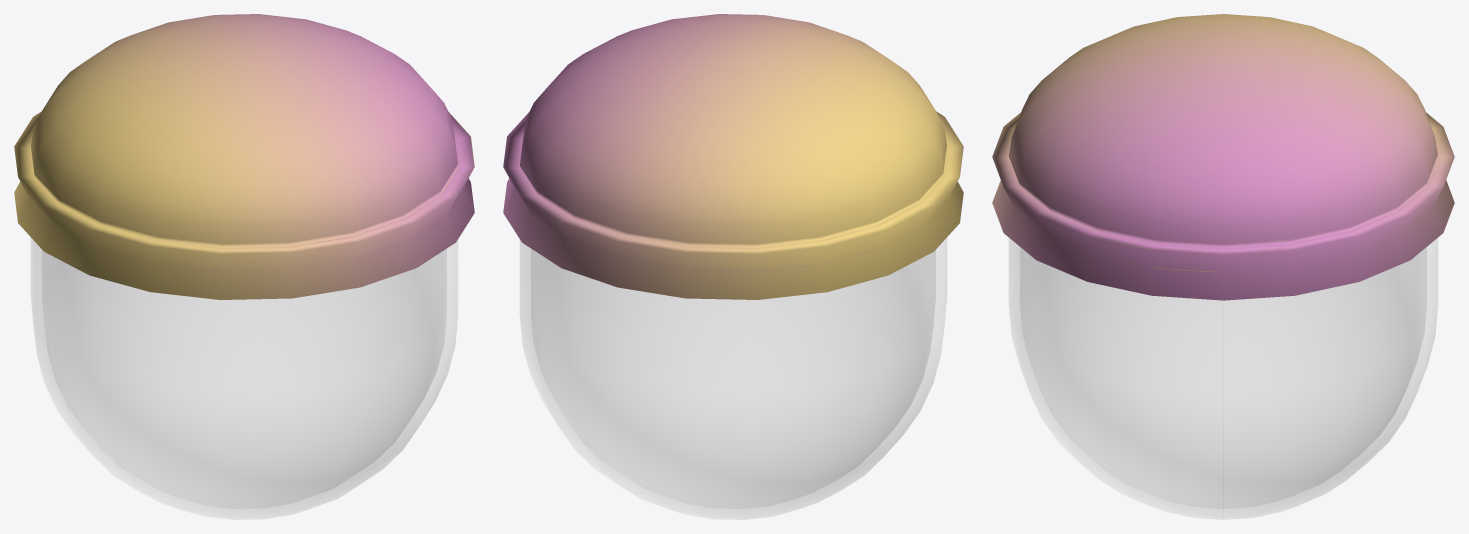
File: capsule_gradient.glb
The picture shows the model from 3 angles, left to right: view 1: azimuth 30°, elevation 25°; view 2: azimuth 150°, elevation 25°; view 3: azimuth 270°, elevation 25°; orthographic projection.
Visible parts, largest first — view 1: CapsulePurpleTop, CapsulePurpleBottom; view 2: CapsulePurpleTop, CapsulePurpleBottom; view 3: CapsulePurpleTop, CapsulePurpleBottom.
Boxes of the visible parts, x1,y1,x2,y2 form: CapsulePurpleTop: (14, 14, 474, 299); CapsulePurpleBottom: (31, 238, 457, 519); CapsulePurpleTop: (503, 14, 963, 299); CapsulePurpleBottom: (520, 238, 946, 519); CapsulePurpleTop: (992, 14, 1454, 300); CapsulePurpleBottom: (1009, 238, 1437, 519).
Bounding box in the file's own units: 0.021 × 0.0227 × 0.021.
Materials: 2 (1 with a texture image).
